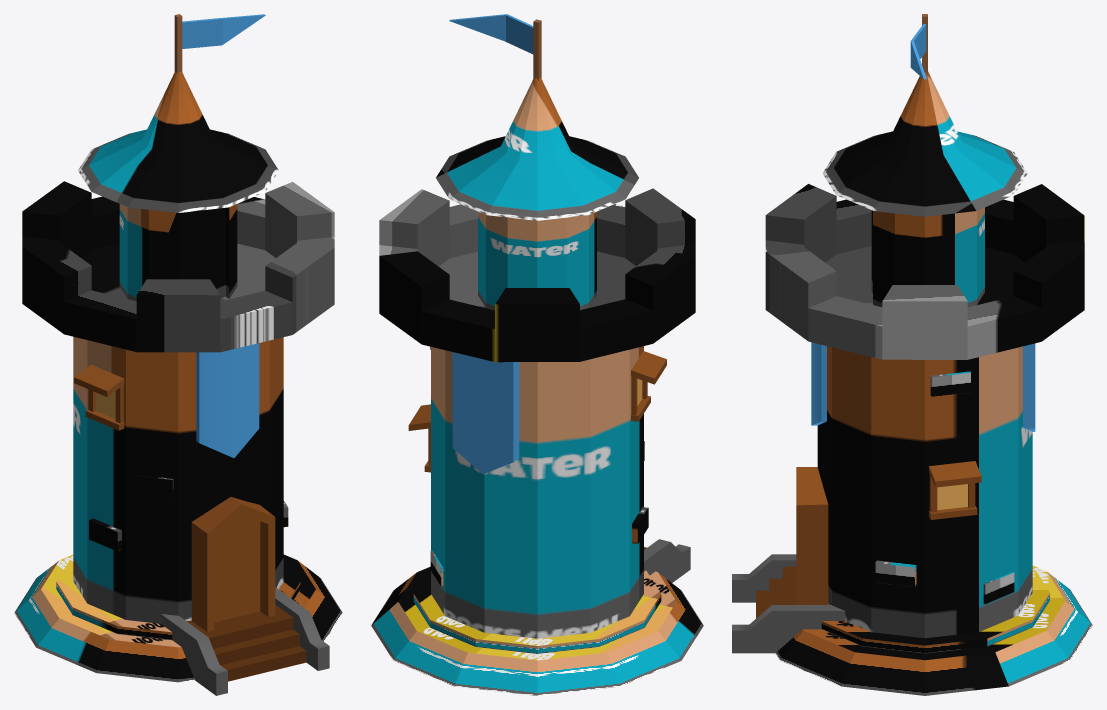
The model's file is Tower01.fbx.
3 views of the same model, side by side, from view 1: azimuth 30°, elevation 25°; view 2: azimuth 150°, elevation 25°; view 3: azimuth 270°, elevation 25° (orthographic). The views are drawn at different scales.
Parts seen in each view (by area): view 1: Tower, Flag_01, Flag_02; view 2: Tower, Flag_02, Flag_01; view 3: Tower.
Part boxes in pixels (box(x1,y1,x2,y2)): Tower: box(14, 14, 342, 695); Flag_01: box(182, 18, 222, 48); Flag_02: box(222, 14, 265, 44); Tower: box(371, 19, 703, 695); Flag_02: box(449, 14, 505, 41); Flag_01: box(505, 14, 533, 54); Tower: box(732, 14, 1092, 695).
Size of the model in its own units: 191 by 382 by 205.
Materials: 1 (1 with a texture image).
